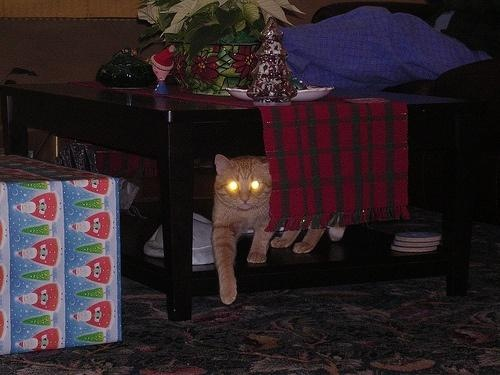cat: (212, 153, 347, 306)
pottedplant: (135, 1, 306, 97)
